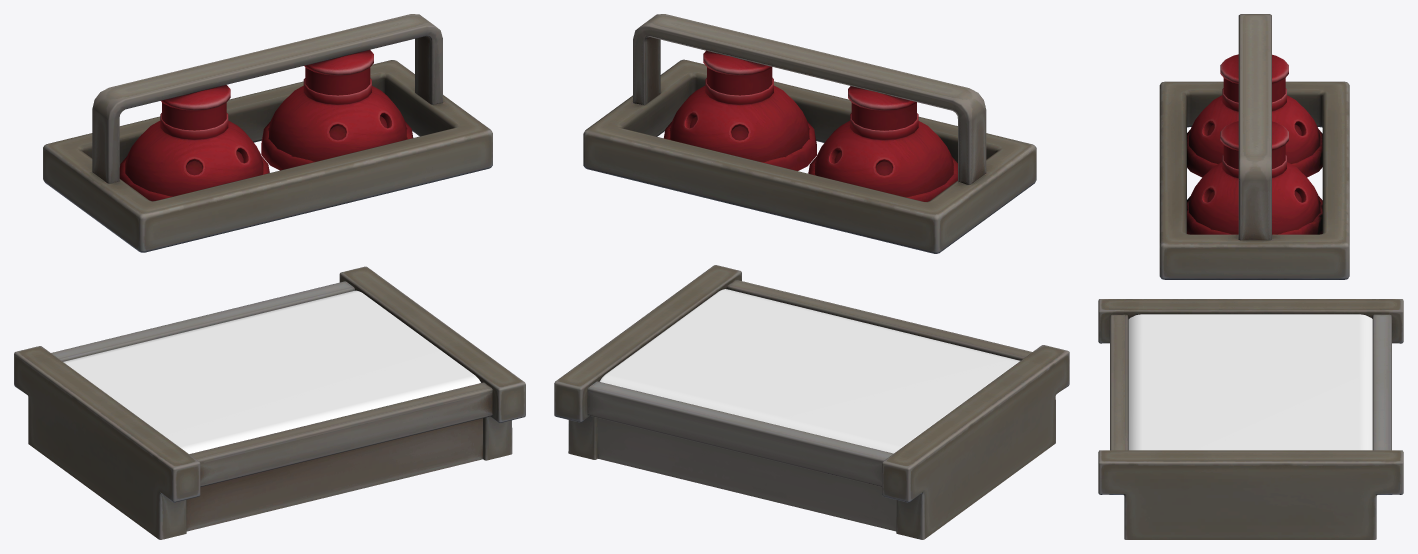
Rendered from m_dlc08_servicehatch_01.fbx.
The picture shows the model from 3 angles, left to right: view 1: azimuth 30°, elevation 25°; view 2: azimuth 150°, elevation 25°; view 3: azimuth 270°, elevation 25°; orthographic projection. The views are drawn at different scales.
Visible parts, largest first — view 1: m_dlc08_servicehatch_01_1, m_dlc08_servicehatch_01_0; view 2: m_dlc08_servicehatch_01_1, m_dlc08_servicehatch_01_0; view 3: m_dlc08_servicehatch_01_1, m_dlc08_servicehatch_01_0.
Boxes of the visible parts, x1,y1,x2,y2 form: m_dlc08_servicehatch_01_1: (14, 14, 525, 539); m_dlc08_servicehatch_01_0: (63, 290, 480, 453); m_dlc08_servicehatch_01_1: (554, 14, 1069, 539); m_dlc08_servicehatch_01_0: (599, 289, 1020, 453); m_dlc08_servicehatch_01_1: (1098, 14, 1403, 539); m_dlc08_servicehatch_01_0: (1128, 314, 1372, 450).
Size of the model in its own units: 2.4 by 2.53 by 1.88.
